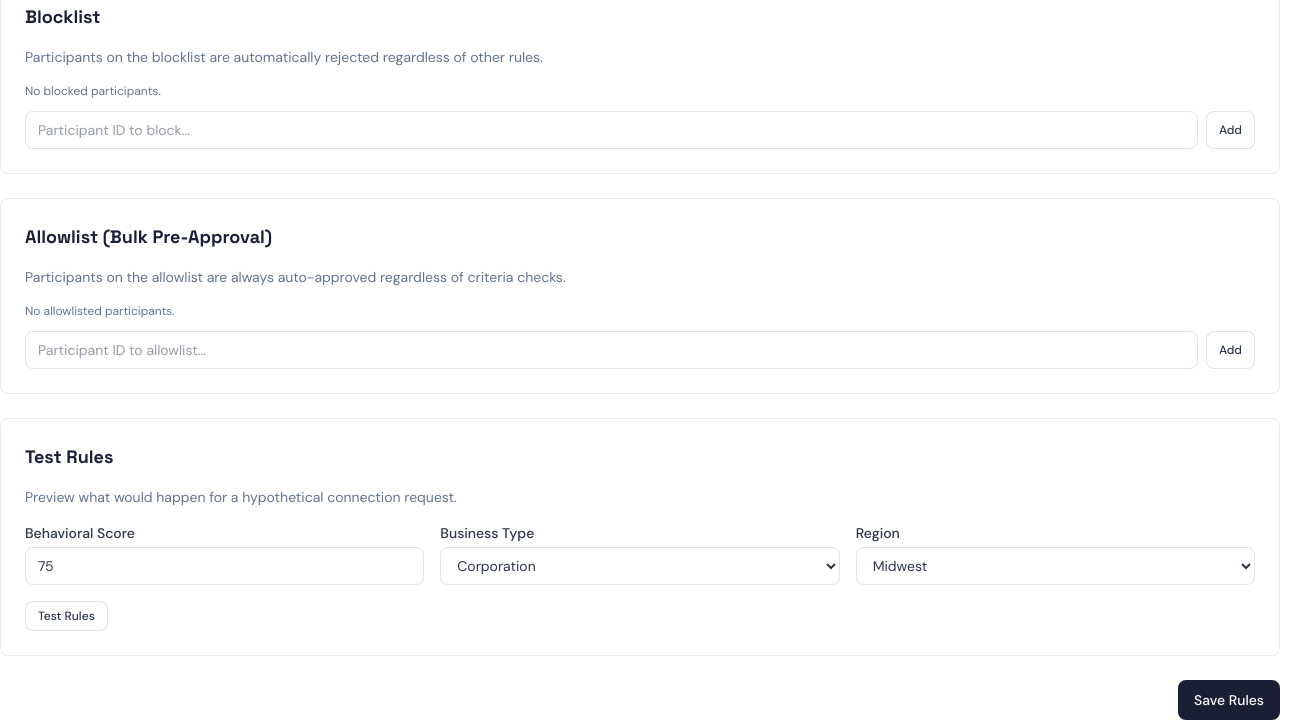
it: ApprovalRules — Test Rules (SEC-web-account-1-10) › a 403 shows the error and renders no verdict: a browser guess is never shown as the server's decision
This screenshot has width=1292, height=720.
(page scrolled)
Click the button "Test Rules": click(66, 616) [25,601,108,631]
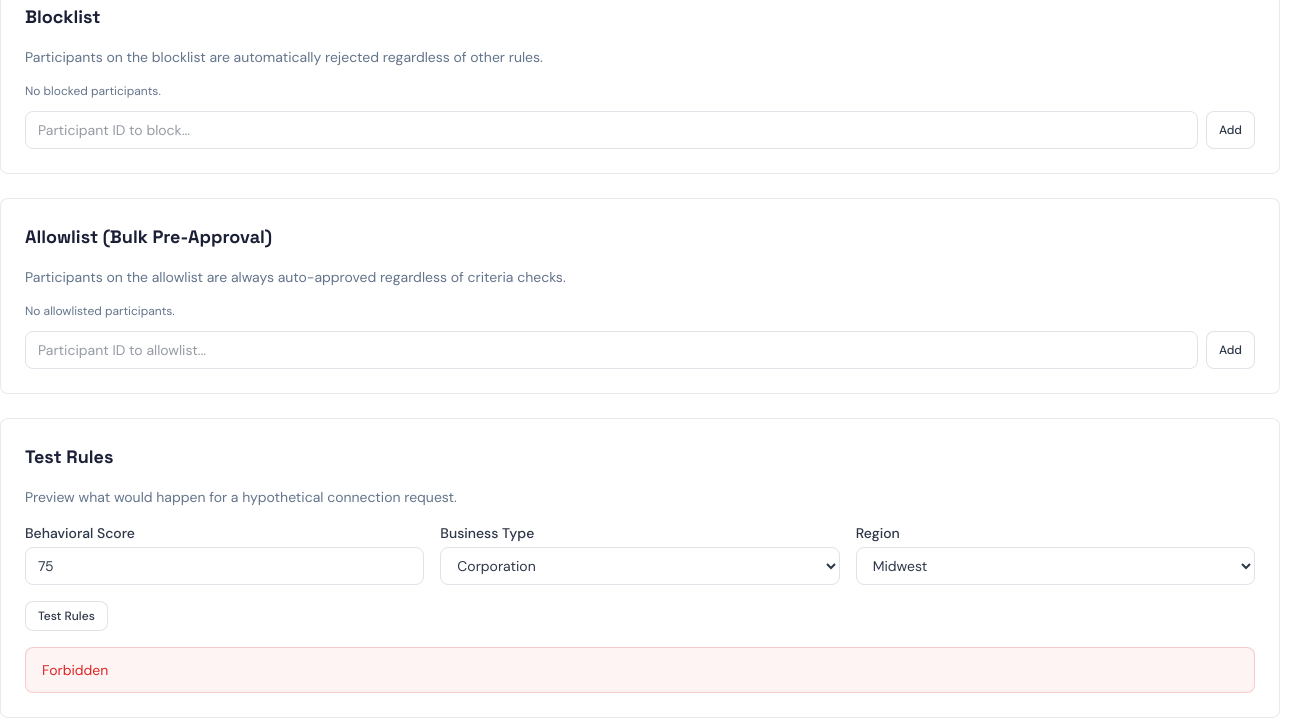
Check: the message reads "Forbidden", box [42,661,108,679]
